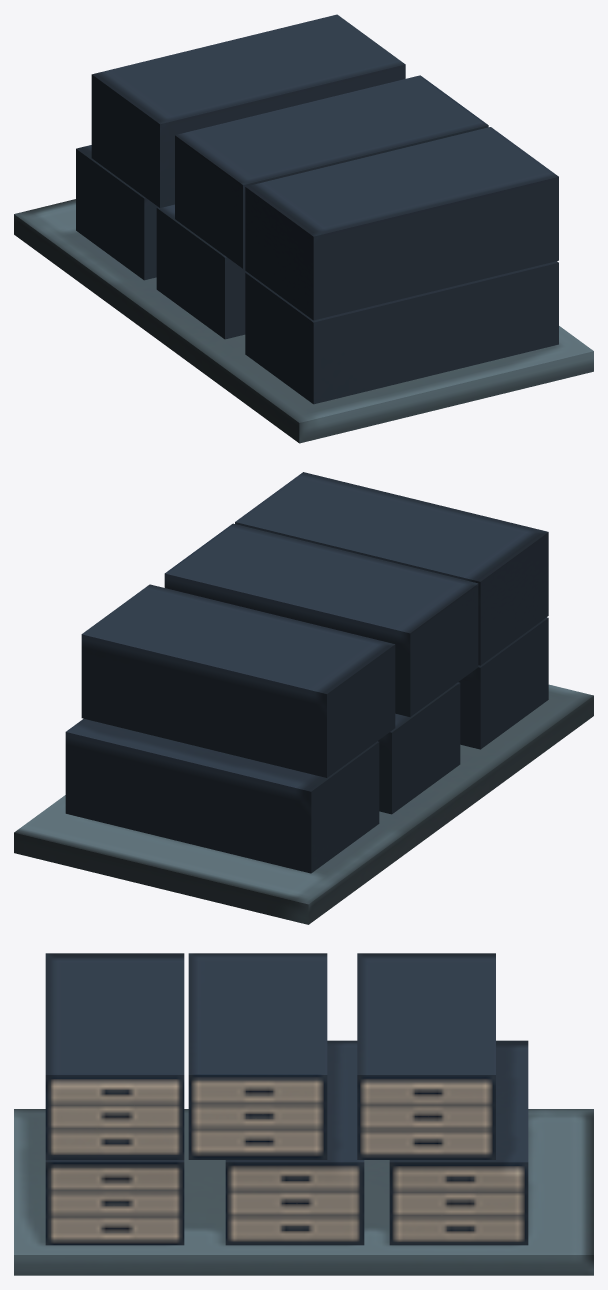
The model's file is Tx_prop_shelf_2_4.fbx.
The picture shows the model from 3 angles, top to bottom: view 1: azimuth 30°, elevation 25°; view 2: azimuth 150°, elevation 25°; view 3: azimuth 270°, elevation 25°; orthographic projection.
Parts seen in each view (by area): view 1: Tx_prop_shelf_2_9; view 2: Tx_prop_shelf_2_9; view 3: Tx_prop_shelf_2_9.
Part boxes in pixels (box(x1,y1,x2,y2)): Tx_prop_shelf_2_9: box(14, 14, 593, 443); Tx_prop_shelf_2_9: box(14, 472, 593, 924); Tx_prop_shelf_2_9: box(14, 953, 593, 1275).
Bounding box in the file's own units: 3.44 × 2.1 × 5.77.
2 materials, 2 textured.
